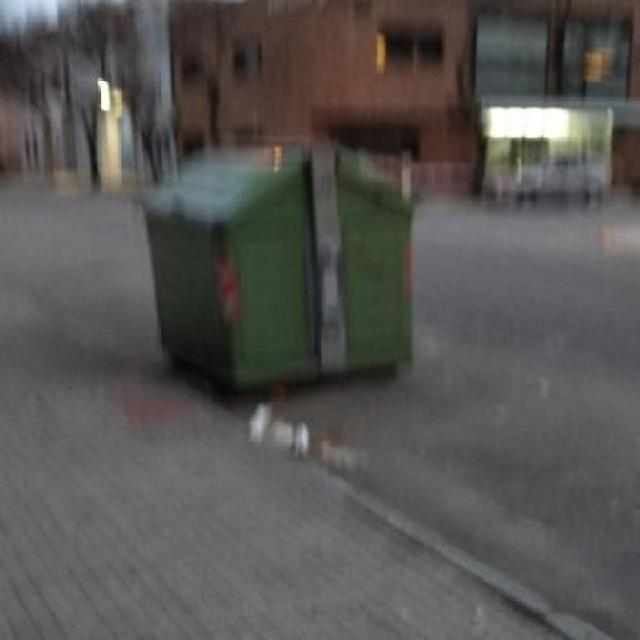garbage: (245, 387, 378, 486)
